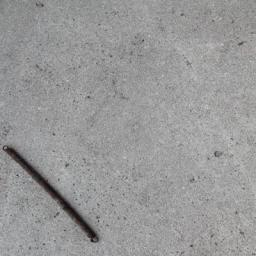FOD: (1, 142, 102, 247)
